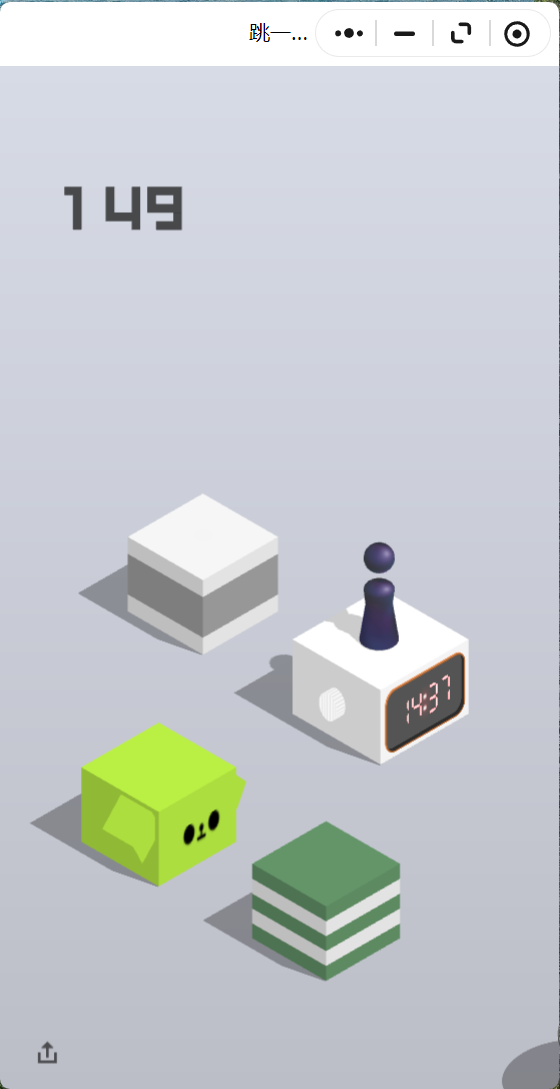piece: (364, 543, 394, 647)
target: (129, 494, 279, 580)
